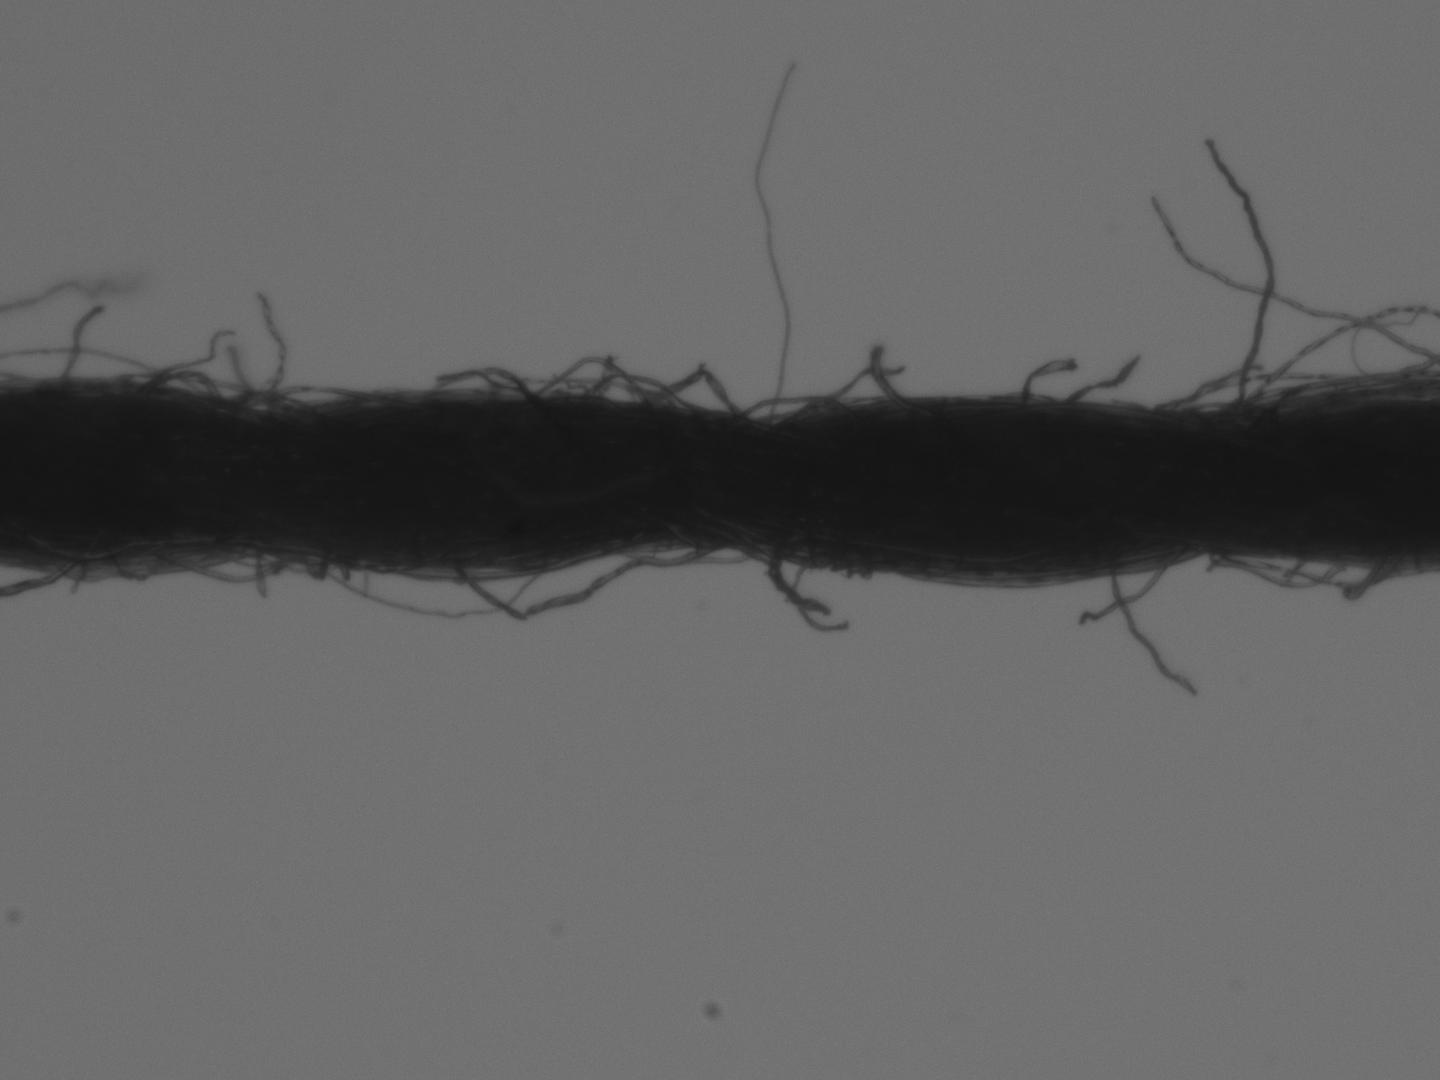loop_fiber: (441, 532, 718, 623), (509, 351, 745, 421), (765, 338, 933, 430), (719, 530, 880, 617), (1198, 546, 1396, 600), (128, 539, 336, 588), (237, 381, 398, 420), (125, 364, 234, 419)
protruding_fiber: (1201, 127, 1281, 417), (1064, 348, 1142, 405)
